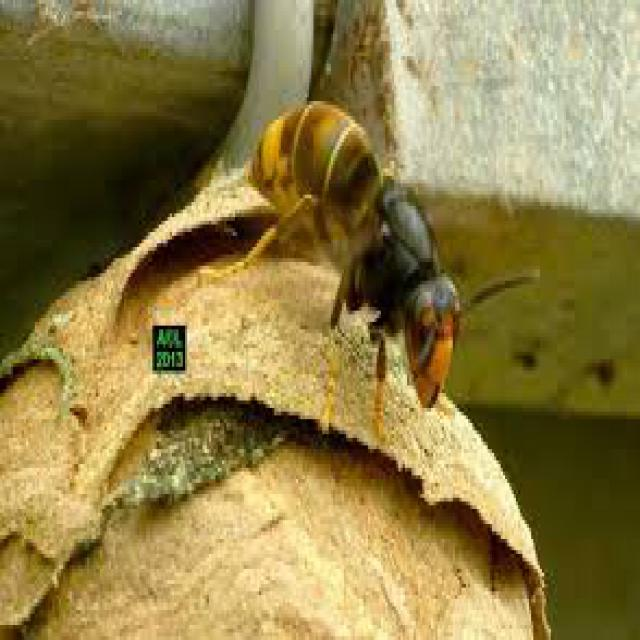Vespa Velutina: (162, 89, 546, 452)
